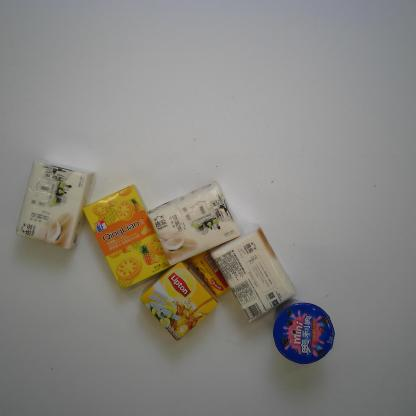Candy: (186, 250, 232, 298)
Dessert: (80, 181, 174, 294), (272, 300, 336, 366)
Instant Drink: (137, 260, 220, 345)
Tissue: (143, 178, 243, 271), (207, 225, 299, 325), (12, 158, 99, 251)
